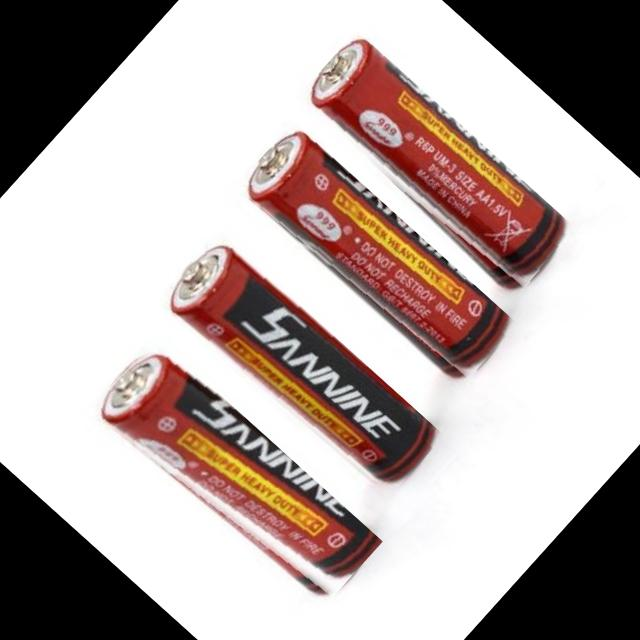Hazard: (86, 334, 382, 614), (156, 230, 444, 503), (292, 30, 577, 300), (236, 121, 518, 388)
